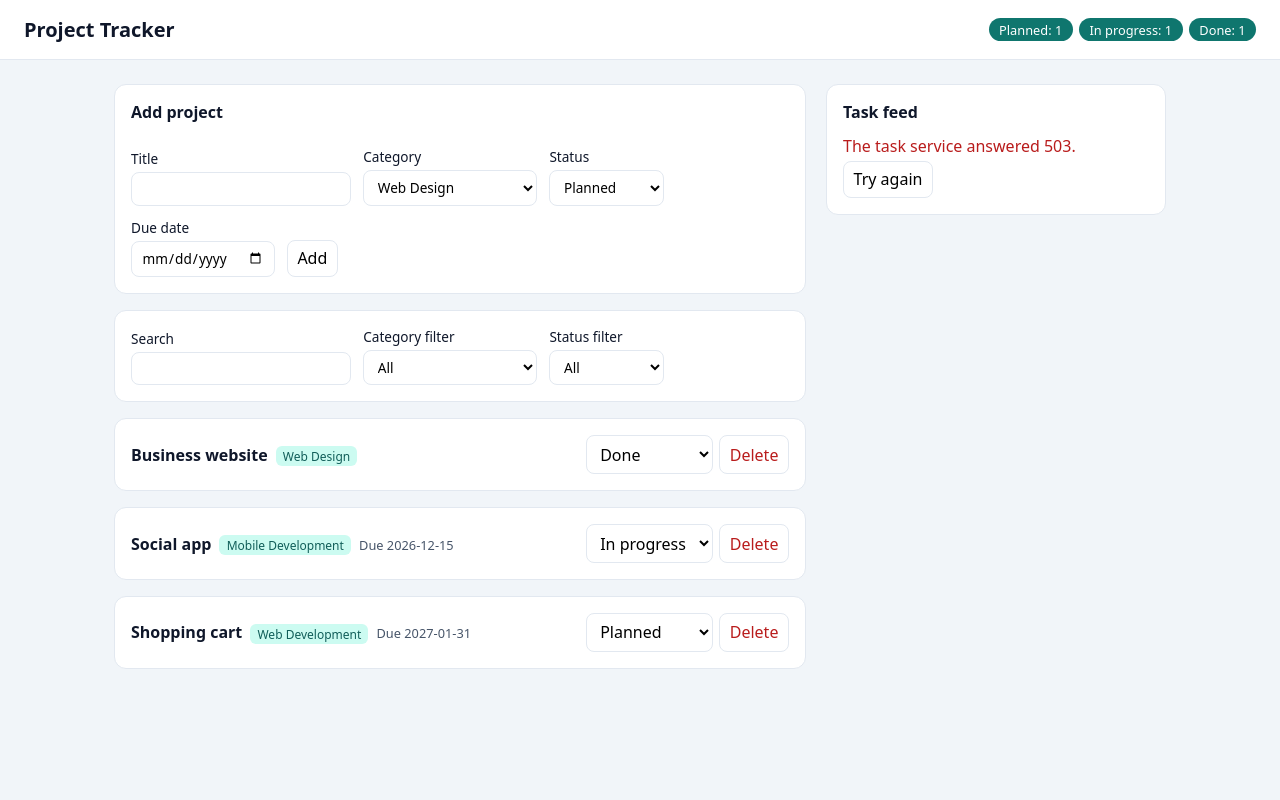
Test: Project Tracker › reports feed errors and recovers on retry
The width and height of the screenshot is (1280, 800).
Check: the text "The task service answered 503." is shown, box x1=843 y1=135 x2=1076 y2=157
Click the button "Try again" at (888, 179), box x1=843 y1=161 x2=933 y2=198
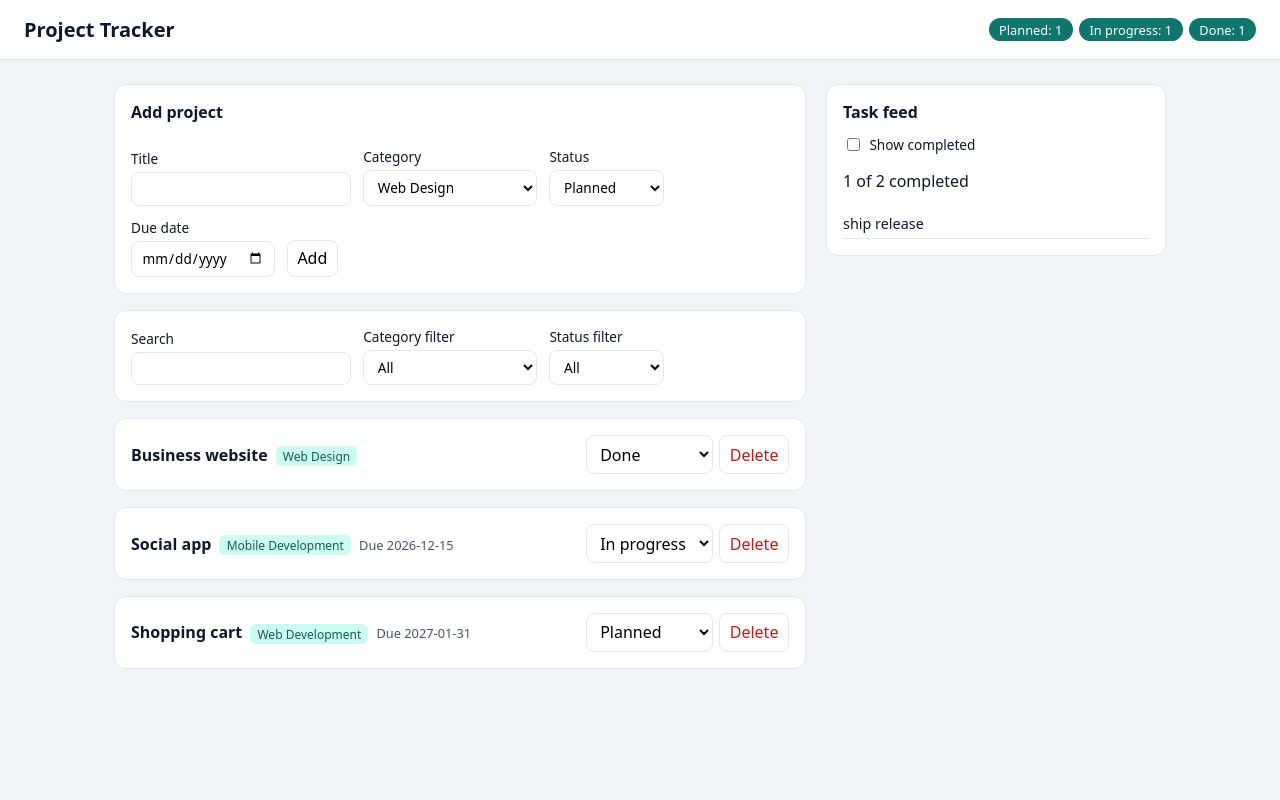
Check: the list item "ship release" is shown, box x1=843 y1=208 x2=1149 y2=239
